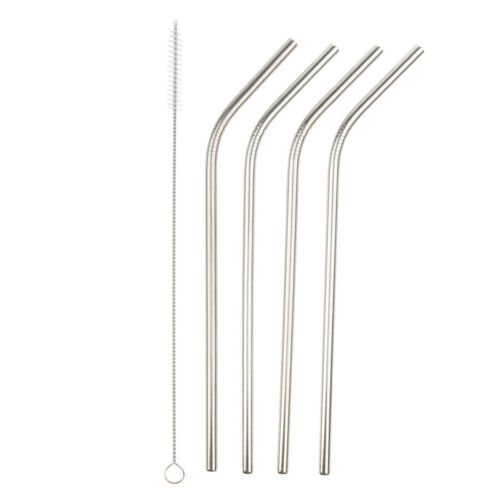Drinking Straw: (200, 35, 299, 476)
